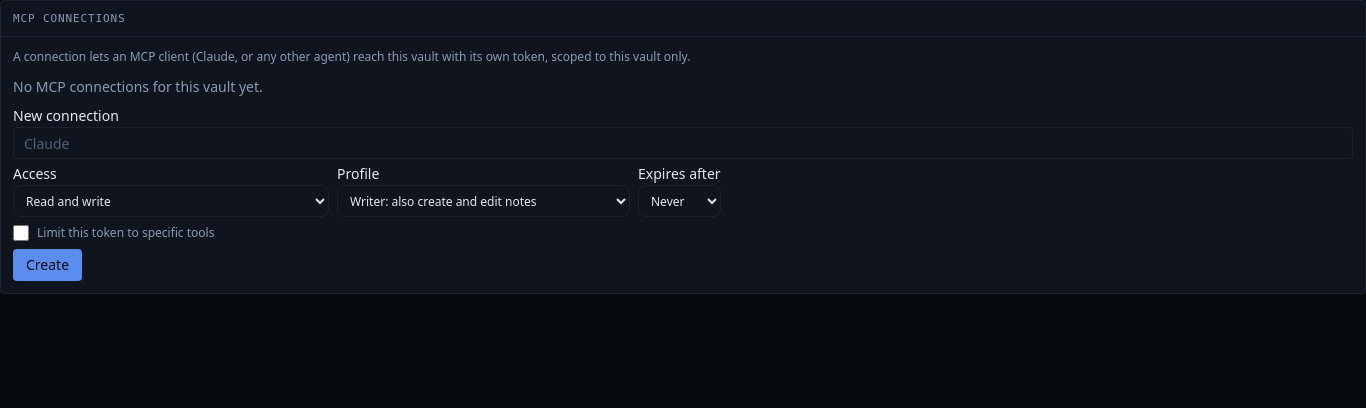
Test case: VaultMcpPanel › the allow-list offers only tools inside the chosen profile (#428)
The image size is (1366, 408).
Expected: the text "No MCP connections for this vault yet." is shown, [13,77,263,96]
Select "Reader: search, read, browse, code questions" in the dropdown labelled "Profile": (484, 201) [337,185,630,217]
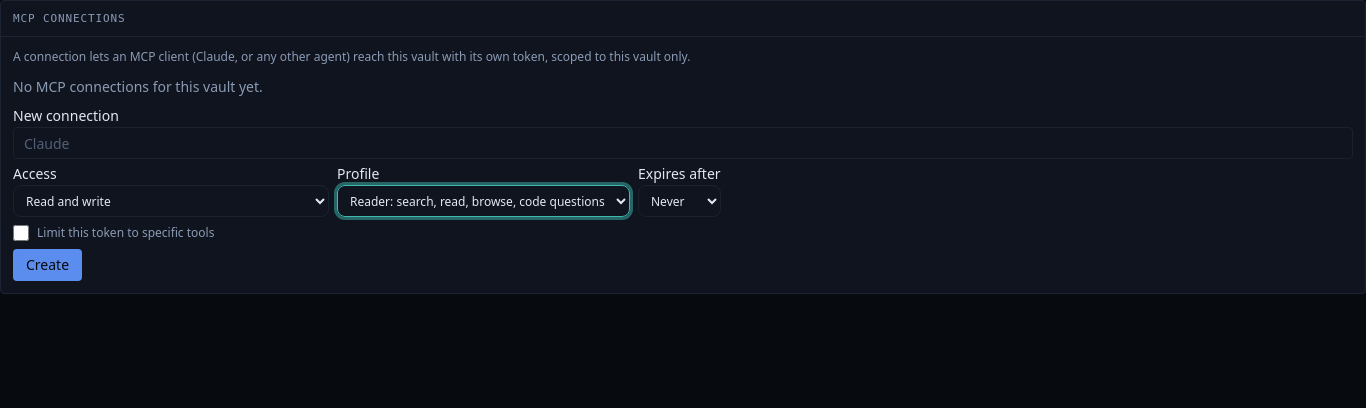
Click the checkbox labelled "Limit this token to specific tools": (21, 233) [13,225,29,241]
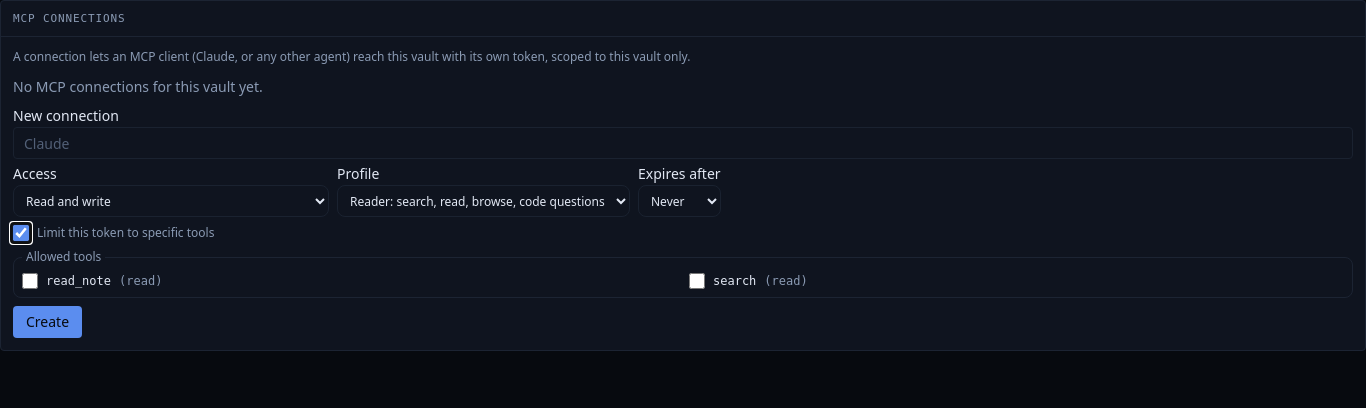
Expected: the field labelled "create_note" is not shown
Result: the checkbox labelled "read_note (read)" is shown at [22,273,38,289]
Result: the checkbox labelled "search (read)" is shown at [689,273,705,289]
Select "Admin: every tool the access allows" in the dropdown labelled "Profile": (484, 201) [337,185,630,217]
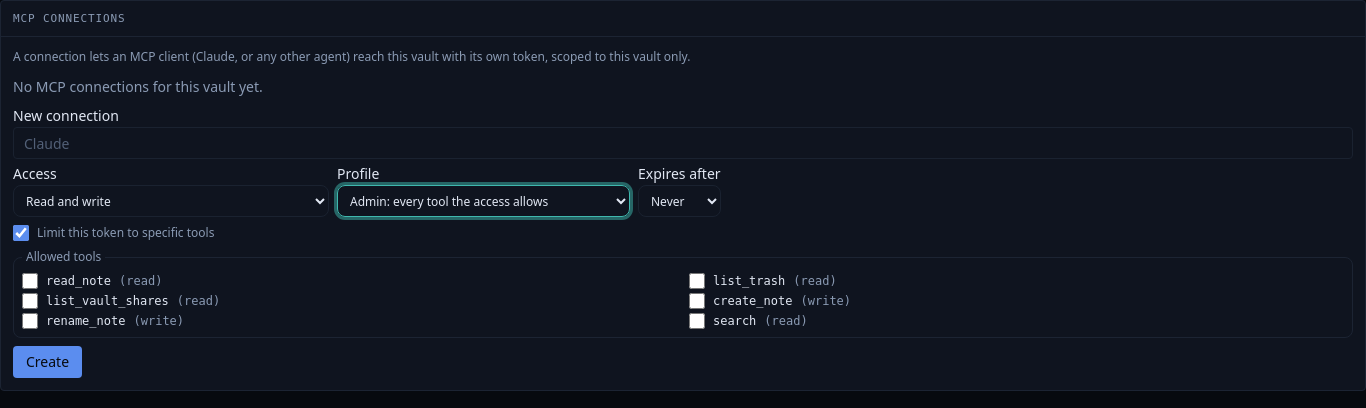
Expected: the checkbox labelled "list_trash (read)" is shown, [689,273,705,289]
Result: the checkbox labelled "create_note (write)" is shown at [689,293,705,309]
Result: the checkbox labelled "rename_note (write)" is shown at [22,313,38,329]
